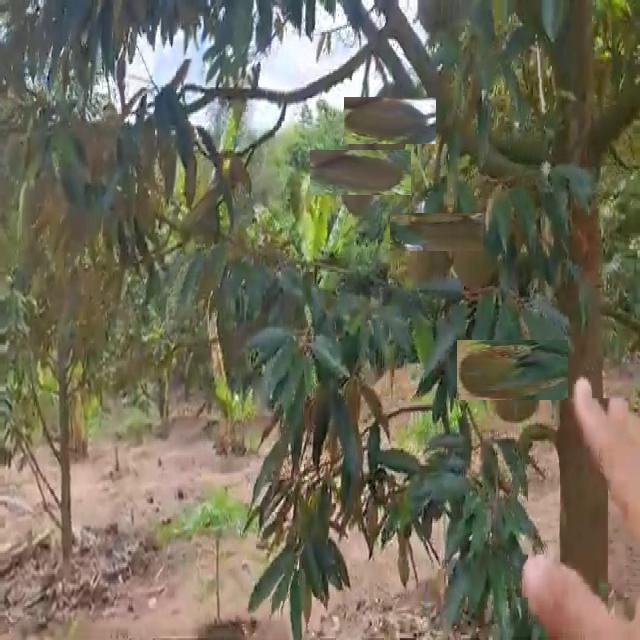durian: (470, 326, 556, 413), (441, 188, 506, 296), (324, 136, 397, 210), (354, 85, 424, 155), (404, 199, 470, 265)
